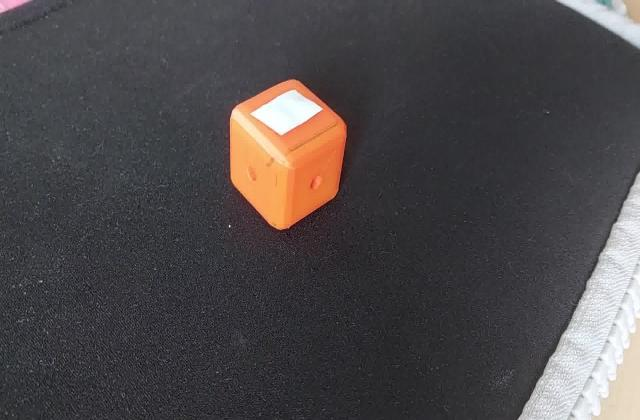cube: (225, 76, 348, 234)
white: (251, 101, 322, 138)
